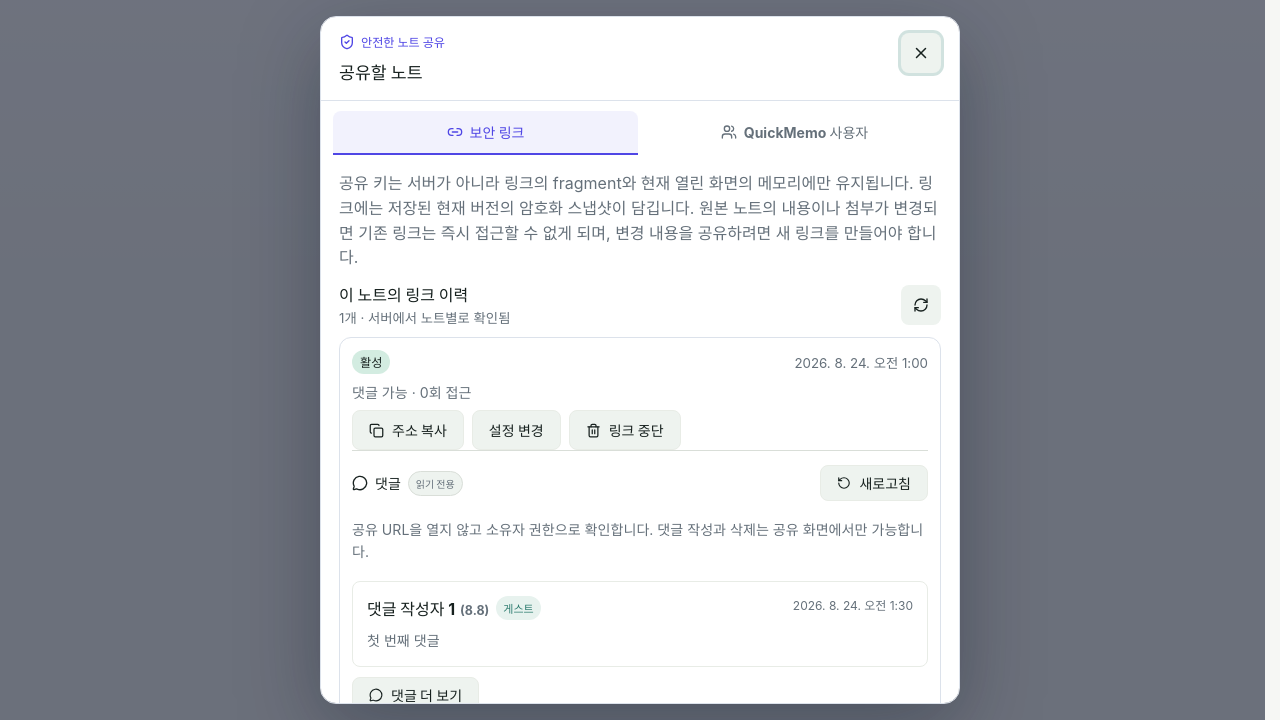
Test: VaultShareManagerDialog › loads owner-authorized comments for an active comment share and paginates with policy-approved IP prefixes
The width and height of the screenshot is (1280, 720).
Expected: the text "첫 번째 댓글" is shown, [367,632,440,649]
Expected: the text "(8.8)" is shown, [460,603,489,618]
What coordinates should you click on to do the following:
click the button "댓글 더 보기"
I would click on:
 (416, 695)
Its box is [352,677,479,713].
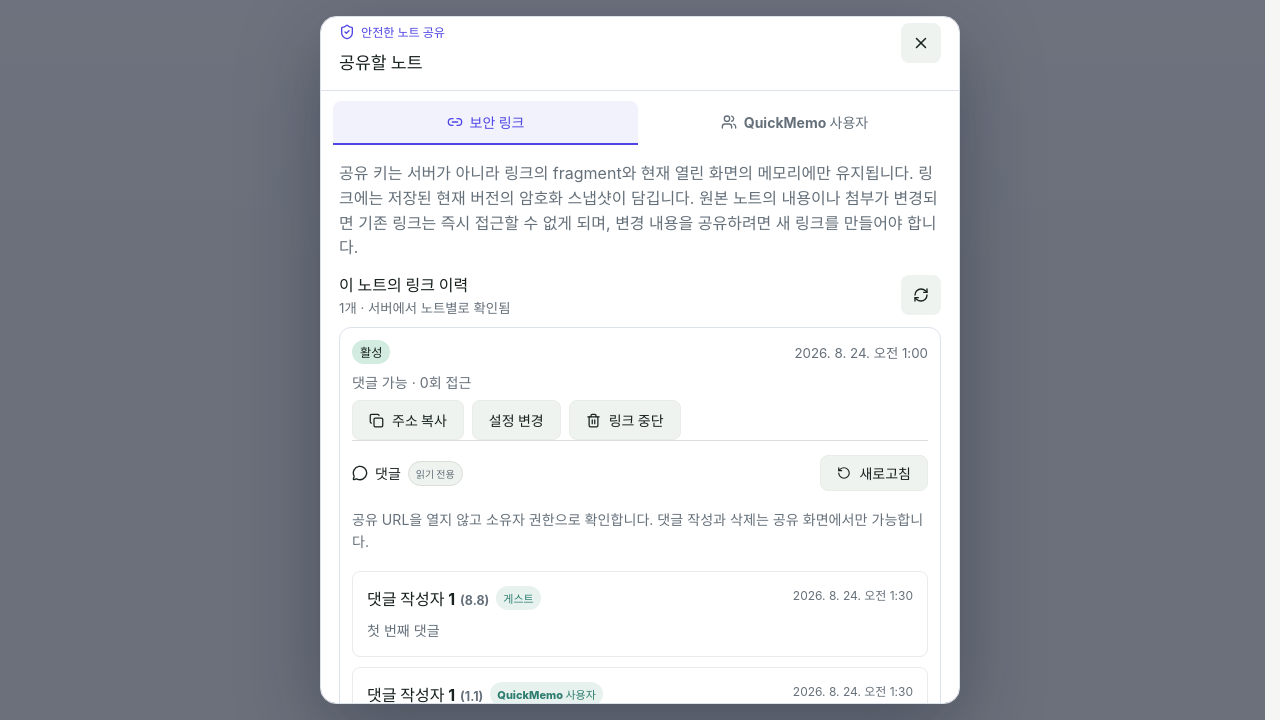
Now the text "(1.1)" is shown, box [460,689,483,704]
